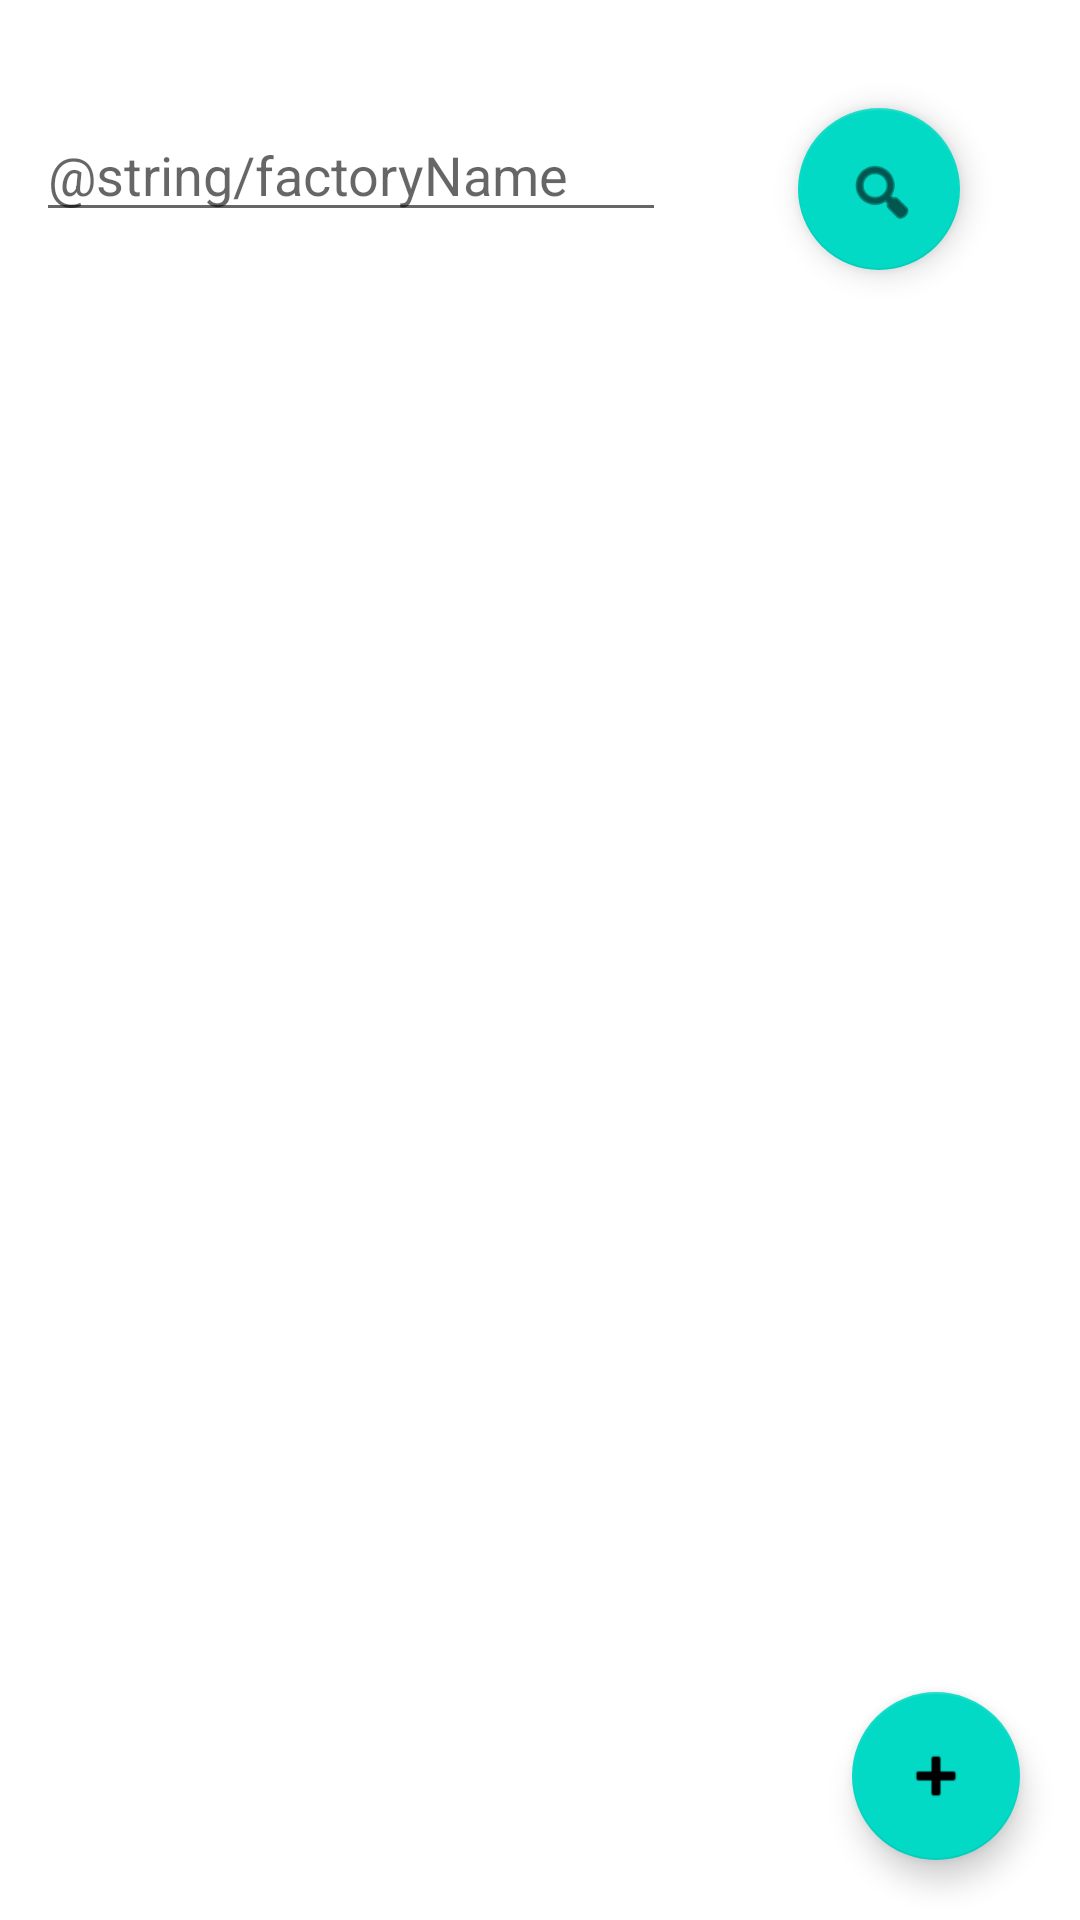

Icon click points for this 1080 x 1920 phone screenshot, format [x,y]:
add: [936,1776]
search: [879,189]
